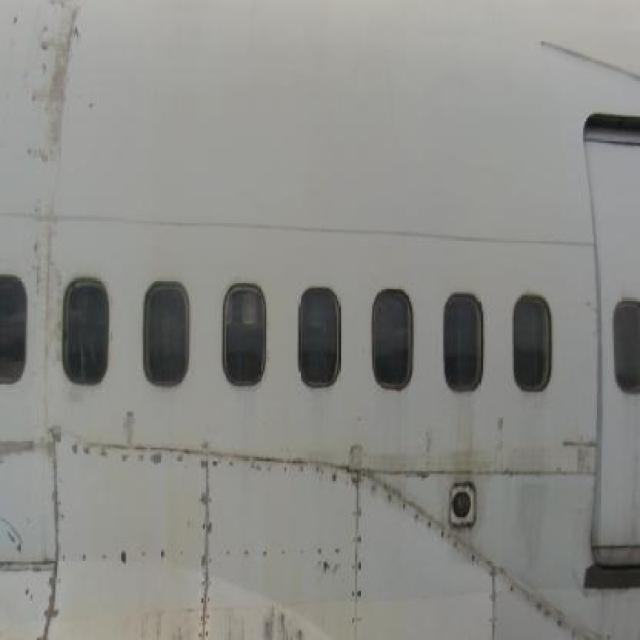Missing-Rivet: (73, 415, 424, 503), (417, 511, 581, 640), (3, 407, 67, 640), (46, 536, 372, 575), (342, 487, 373, 640), (192, 492, 219, 640)
Scartch: (8, 15, 92, 296)
